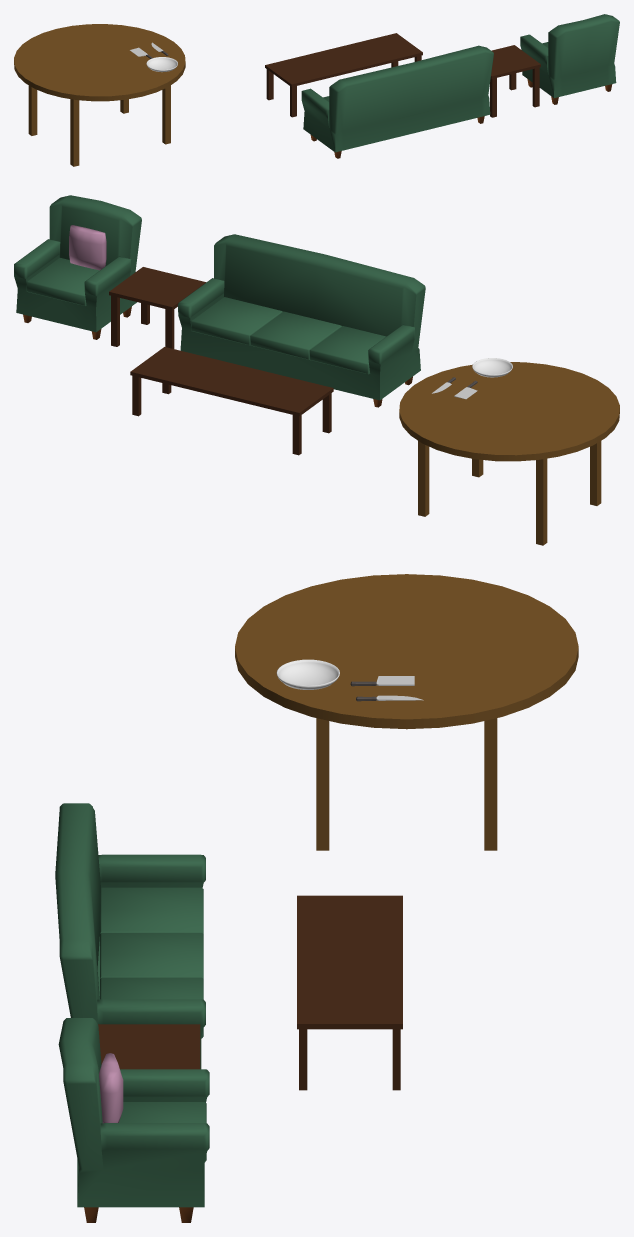
File: Props3.fbx
The picture shows the model from 3 angles, top to bottom: view 1: azimuth 30°, elevation 25°; view 2: azimuth 150°, elevation 25°; view 3: azimuth 270°, elevation 25°; orthographic projection. The views are drawn at different scales.
Visible parts, largest first — view 1: Couch, Table.Round, Chair, CoffeeTable, EndTable, Bowl; view 2: Couch, Table.Round, Chair, CoffeeTable, EndTable, Cushion.002, Cushion.001, Cushion.003, Cushion.000, Pillow, Bowl; view 3: Table.Round, Chair, CoffeeTable, Couch, Cushion.003, Cushion.002, EndTable, Cushion.001, Cushion.000, Bowl, Pillow.
Boxes of the visible parts, x1,y1,x2,y2 form: Couch: [301, 45, 493, 152]; Table.Round: [14, 24, 185, 166]; Chair: [520, 14, 619, 98]; CoffeeTable: [265, 33, 422, 117]; EndTable: [490, 45, 540, 117]; Bowl: [146, 57, 177, 72]; Couch: [178, 234, 425, 400]; Table.Round: [399, 362, 619, 545]; Chair: [14, 195, 141, 332]; CoffeeTable: [130, 347, 333, 455]; EndTable: [109, 267, 205, 348]; Cushion.002: [250, 311, 342, 359]; Cushion.001: [191, 297, 282, 345]; Cushion.003: [309, 326, 386, 374]; Cushion.000: [26, 258, 99, 305]; Pillow: [69, 225, 106, 270]; Bowl: [472, 358, 512, 377]; Table.Round: [235, 574, 578, 850]; Chair: [58, 1018, 209, 1207]; CoffeeTable: [297, 895, 402, 1090]; Couch: [55, 803, 205, 1069]; Cushion.003: [100, 887, 203, 933]; Cushion.002: [100, 933, 203, 978]; EndTable: [98, 1024, 200, 1069]; Cushion.001: [100, 977, 203, 1038]; Cushion.000: [119, 1102, 206, 1162]; Bowl: [276, 659, 339, 689]; Pillow: [99, 1053, 123, 1123].
Size of the model in its own units: 27.39 by 4.3 by 12.16.
